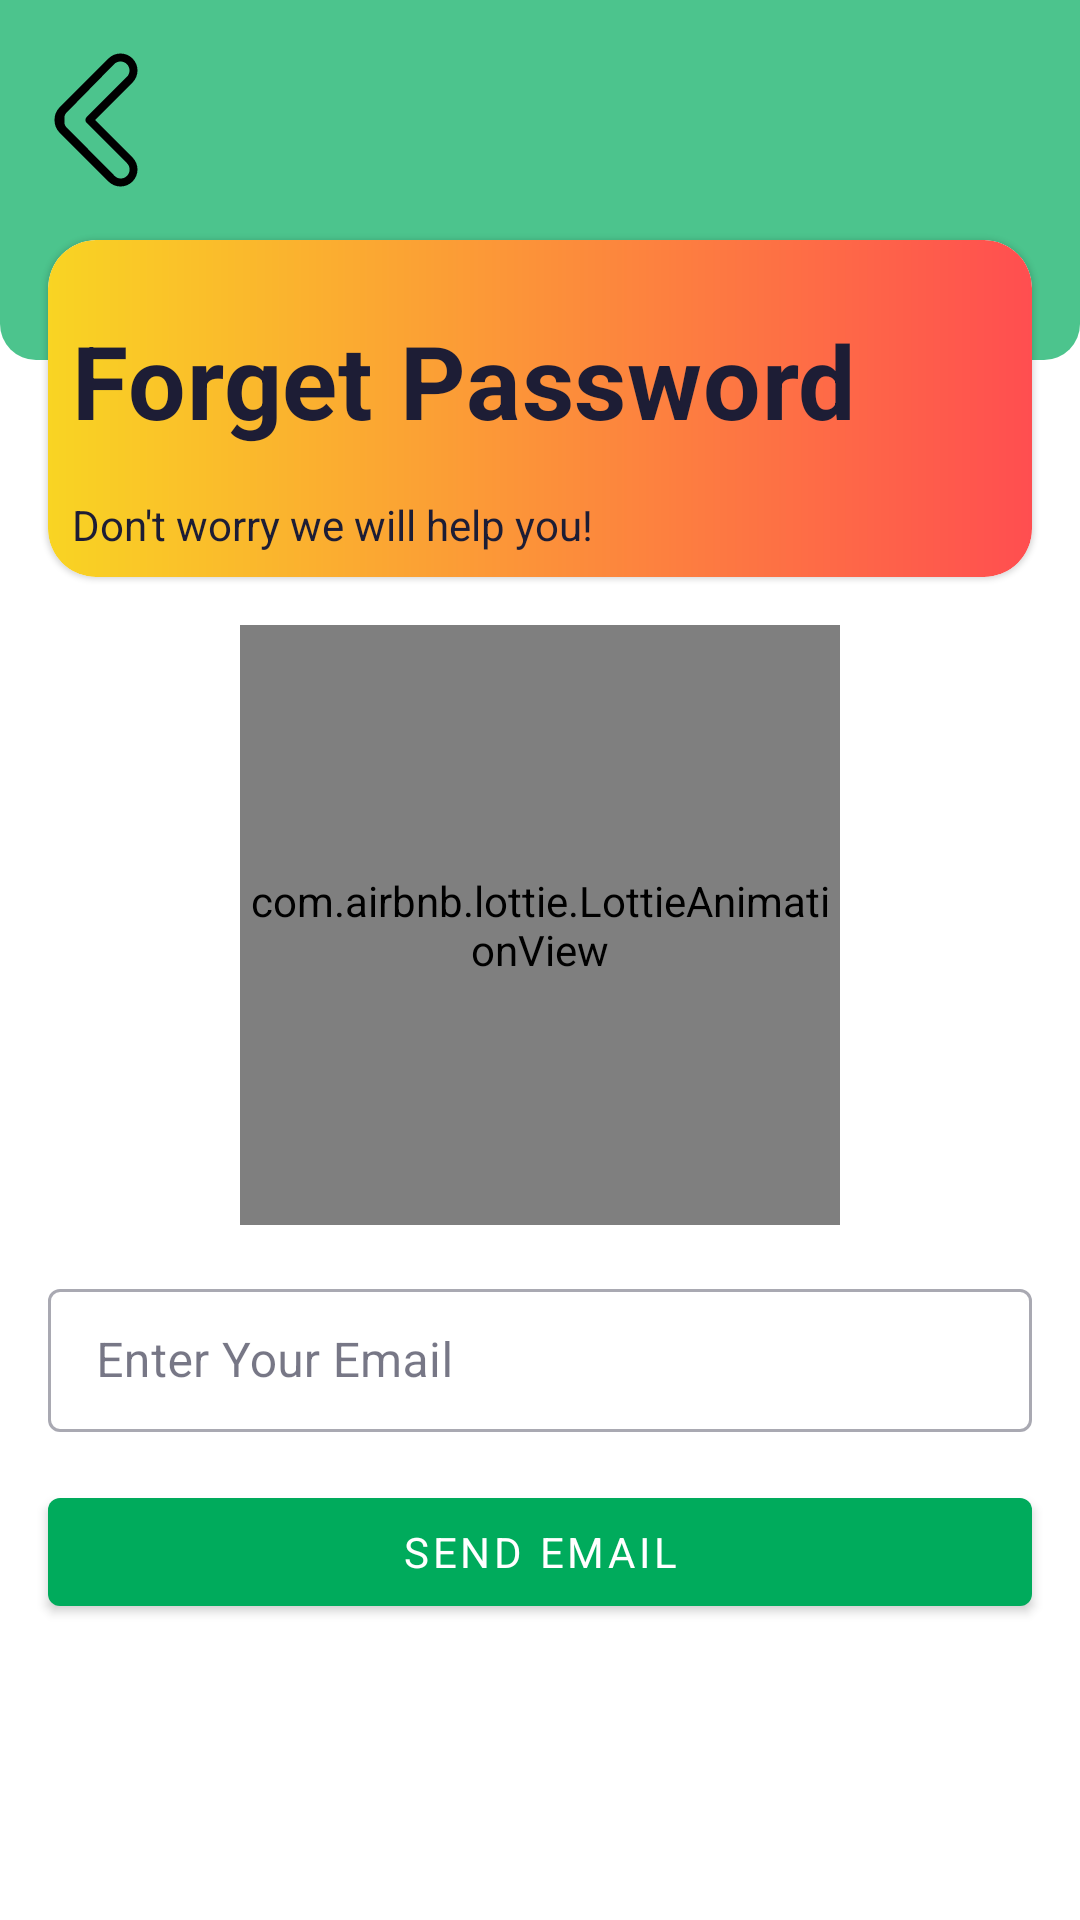

Icon click points for this 1080px x 1920px phone screenshot, format (x,y):
back: (96,120)
